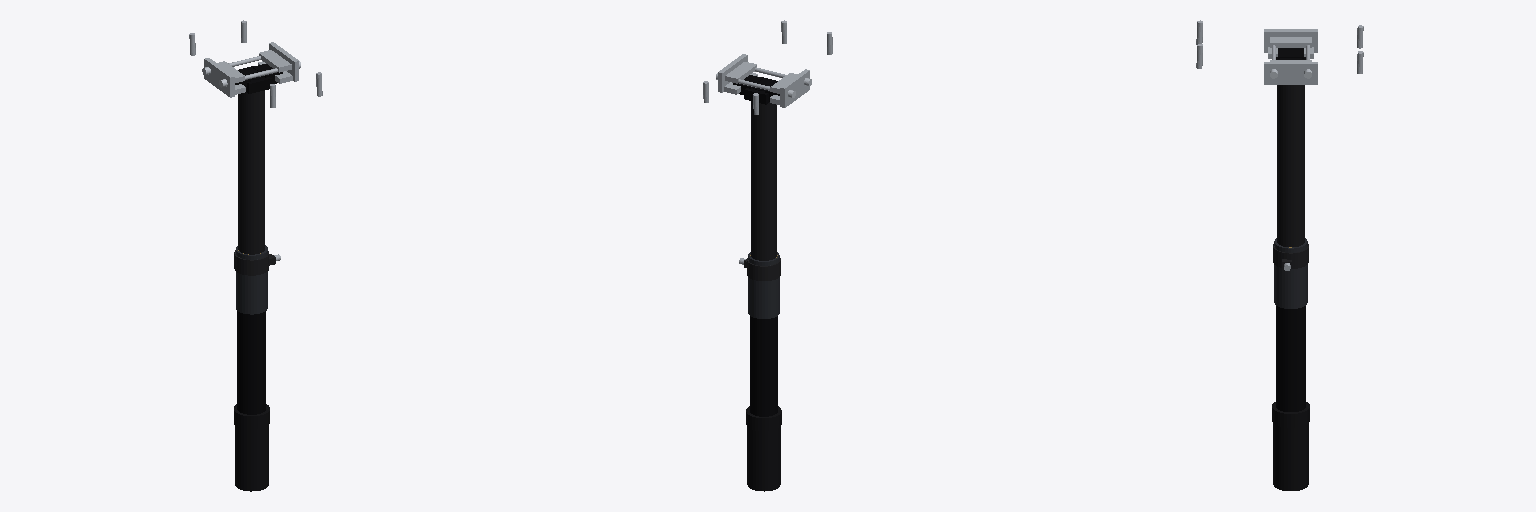
robot.urdf — bicycle_dropper_seatpost:
<robot name="bicycle_dropper_seatpost">
  <material name="frame_black">
    <color rgba="0.11 0.11 0.12 1" />
    </material>
  <material name="anodized_black">
    <color rgba="0.08 0.08 0.09 1" />
    </material>
  <material name="satin_black">
    <color rgba="0.16 0.16 0.17 1" />
    </material>
  <material name="dark_graphite">
    <color rgba="0.2 0.21 0.23 1" />
    </material>
  <material name="black_chrome">
    <color rgba="0.14 0.14 0.15 1" />
    </material>
  <material name="rubber_black">
    <color rgba="0.08 0.08 0.08 1" />
    </material>
  <material name="brushed_steel">
    <color rgba="0.68 0.7 0.73 1" />
    </material>
  <material name="dull_aluminum">
    <color rgba="0.74 0.76 0.79 1" />
    </material>
  <material name="bronze">
    <color rgba="0.62 0.52 0.31 1" />
    </material>
  <link name="seat_tube_stub">
    <inertial>
      <origin xyz="0 0 -0.045" rpy="0 0 0" />
      <mass value="0.35" />
      <inertia ixx="0.000270553" ixy="0" ixz="0" iyy="0.000270553" iyz="0" izz="6.8607e-05" />
      </inertial>
    <visual>
      <origin xyz="0 0 -0.045" rpy="0 0 0" />
      <geometry>
        <cylinder radius="0.0185" length="0.09" />
        </geometry>
      <material name="frame_black">
        <color rgba="0.11 0.11 0.12 1" />
        </material>
      </visual>
    <visual>
      <origin xyz="0 0 -0.008" rpy="0 0 0" />
      <geometry>
        <cylinder radius="0.0198" length="0.016" />
        </geometry>
      <material name="frame_black">
        <color rgba="0.11 0.11 0.12 1" />
        </material>
      </visual>
    <collision name="seat_tube_stub__visual_1">
      <origin xyz="0 0 -0.045" rpy="0 0 0" />
      <geometry>
        <cylinder radius="0.0185" length="0.09" />
        </geometry>
      </collision>
    <collision name="seat_tube_stub__visual_2">
      <origin xyz="0 0 -0.008" rpy="0 0 0" />
      <geometry>
        <cylinder radius="0.0198" length="0.016" />
        </geometry>
      </collision>
    </link>
  <link name="outer_body">
    <inertial>
      <origin xyz="0 0 0.0625" rpy="0 0 0" />
      <mass value="0.55" />
      <inertia ixx="0.00302194" ixy="0" ixz="0" iyy="0.00302194" iyz="0" izz="8.3259e-05" />
      </inertial>
    <visual>
      <origin xyz="0 0 0.0275" rpy="0 0 0" />
      <geometry>
        <cylinder radius="0.0158" length="0.185" />
        </geometry>
      <material name="anodized_black">
        <color rgba="0.08 0.08 0.09 1" />
        </material>
      </visual>
    <visual>
      <origin xyz="0 0 0.155" rpy="0 0 0" />
      <geometry>
        <cylinder radius="0.0174" length="0.07" />
        </geometry>
      <material name="dark_graphite">
        <color rgba="0.2 0.21 0.23 1" />
        </material>
      </visual>
    <visual>
      <origin xyz="0 0 -0.055" rpy="0 0 0" />
      <geometry>
        <cylinder radius="0.0168" length="0.02" />
        </geometry>
      <material name="anodized_black">
        <color rgba="0.08 0.08 0.09 1" />
        </material>
      </visual>
    <collision name="outer_body__visual_1">
      <origin xyz="0 0 0.0275" rpy="0 0 0" />
      <geometry>
        <cylinder radius="0.0158" length="0.185" />
        </geometry>
      </collision>
    <collision name="outer_body__visual_2">
      <origin xyz="0 0 0.155" rpy="0 0 0" />
      <geometry>
        <cylinder radius="0.0174" length="0.07" />
        </geometry>
      </collision>
    <collision name="outer_body__visual_3">
      <origin xyz="0 0 -0.055" rpy="0 0 0" />
      <geometry>
        <cylinder radius="0.0168" length="0.02" />
        </geometry>
      </collision>
    </link>
  <link name="clamp_collar">
    <inertial>
      <mass value="0.08" />
      <inertia ixx="9.38e-06" ixy="0" ixz="0" iyy="9.38e-06" iyz="0" izz="1.444e-05" />
      </inertial>
    <visual>
      <geometry>
        <cylinder radius="0.019" length="0.018" />
        </geometry>
      <material name="satin_black">
        <color rgba="0.16 0.16 0.17 1" />
        </material>
      </visual>
    <visual>
      <origin xyz="0 0 0.0065" rpy="0 0 0" />
      <geometry>
        <cylinder radius="0.0178" length="0.005" />
        </geometry>
      <material name="dark_graphite">
        <color rgba="0.2 0.21 0.23 1" />
        </material>
      </visual>
    <visual>
      <origin xyz="0.0185 -0.004 -0.002" rpy="0 0 0" />
      <geometry>
        <box size="0.013 0.011 0.008" />
        </geometry>
      <material name="satin_black">
        <color rgba="0.16 0.16 0.17 1" />
        </material>
      </visual>
    <visual>
      <origin xyz="0.025 -0.004 -0.002" rpy="0 1.5708 0" />
      <geometry>
        <cylinder radius="0.0035" length="0.014" />
        </geometry>
      <material name="brushed_steel">
        <color rgba="0.68 0.7 0.73 1" />
        </material>
      </visual>
    <collision name="clamp_collar__visual_1">
      <geometry>
        <cylinder radius="0.019" length="0.018" />
        </geometry>
      </collision>
    <collision name="clamp_collar__visual_2">
      <origin xyz="0 0 0.0065" rpy="0 0 0" />
      <geometry>
        <cylinder radius="0.0178" length="0.005" />
        </geometry>
      </collision>
    <collision name="clamp_collar__visual_3">
      <origin xyz="0.0185 -0.004 -0.002" rpy="0 0 0" />
      <geometry>
        <box size="0.013 0.011 0.008" />
        </geometry>
      </collision>
    <collision name="clamp_collar__visual_4">
      <origin xyz="0.025 -0.004 -0.002" rpy="0 1.5708 0" />
      <geometry>
        <cylinder radius="0.0035" length="0.014" />
        </geometry>
      </collision>
    </link>
  <link name="stanchion">
    <inertial>
      <origin xyz="0 0 0.09" rpy="0 0 0" />
      <mass value="0.35" />
      <inertia ixx="0.00169865" ixy="0" ixz="0" iyy="0.00169865" iyz="0" izz="3.7303e-05" />
      </inertial>
    <visual>
      <origin xyz="0 0 0.09" rpy="0 0 0" />
      <geometry>
        <cylinder radius="0.0146" length="0.24" />
        </geometry>
      <material name="black_chrome">
        <color rgba="0.14 0.14 0.15 1" />
        </material>
      </visual>
    <visual>
      <origin xyz="0 0 0.003" rpy="0 0 0" />
      <geometry>
        <cylinder radius="0.0151" length="0.006" />
        </geometry>
      <material name="bronze">
        <color rgba="0.62 0.52 0.31 1" />
        </material>
      </visual>
    <visual>
      <origin xyz="0 0 0.206" rpy="0 0 0" />
      <geometry>
        <cylinder radius="0.0138" length="0.016" />
        </geometry>
      <material name="anodized_black">
        <color rgba="0.08 0.08 0.09 1" />
        </material>
      </visual>
    <collision name="stanchion__visual_1">
      <origin xyz="0 0 0.09" rpy="0 0 0" />
      <geometry>
        <cylinder radius="0.0146" length="0.24" />
        </geometry>
      </collision>
    <collision name="stanchion__visual_2">
      <origin xyz="0 0 0.003" rpy="0 0 0" />
      <geometry>
        <cylinder radius="0.0151" length="0.006" />
        </geometry>
      </collision>
    <collision name="stanchion__visual_3">
      <origin xyz="0 0 0.206" rpy="0 0 0" />
      <geometry>
        <cylinder radius="0.0138" length="0.016" />
        </geometry>
      </collision>
    </link>
  <link name="saddle_clamp">
    <inertial>
      <origin xyz="0 0 0.014" rpy="0 0 0" />
      <mass value="0.14" />
      <inertia ixx="5.62917e-05" ixy="0" ixz="0" iyy="0.000130958" iyz="0" izz="0.000158667" />
      </inertial>
    <visual>
      <origin xyz="0 0 -0.001" rpy="0 0 0" />
      <geometry>
        <cylinder radius="0.011" length="0.01" />
        </geometry>
      <material name="anodized_black">
        <color rgba="0.08 0.08 0.09 1" />
        </material>
      </visual>
    <visual>
      <origin xyz="0 0 0.002" rpy="0 0 0" />
      <geometry>
        <box size="0.028 0.038 0.012" />
        </geometry>
      <material name="anodized_black">
        <color rgba="0.08 0.08 0.09 1" />
        </material>
      </visual>
    <visual>
      <origin xyz="-0.02 0 0.004" rpy="0 0 0" />
      <geometry>
        <box size="0.022 0.028 0.012" />
        </geometry>
      <material name="anodized_black">
        <color rgba="0.08 0.08 0.09 1" />
        </material>
      </visual>
    <visual>
      <origin xyz="-0.032 0 0.005" rpy="0 0 0" />
      <geometry>
        <box size="0.022 0.048 0.006" />
        </geometry>
      <material name="brushed_steel">
        <color rgba="0.68 0.7 0.73 1" />
        </material>
      </visual>
    <visual>
      <origin xyz="-0.04 0 0.014" rpy="0 0 0" />
      <geometry>
        <box size="0.006 0.056 0.024" />
        </geometry>
      <material name="brushed_steel">
        <color rgba="0.68 0.7 0.73 1" />
        </material>
      </visual>
    <visual>
      <origin xyz="-0.032 0 0.0175" rpy="0 0 0" />
      <geometry>
        <box size="0.022 0.044 0.006" />
        </geometry>
      <material name="brushed_steel">
        <color rgba="0.68 0.7 0.73 1" />
        </material>
      </visual>
    <visual>
      <origin xyz="0.02 0 0.004" rpy="0 0 0" />
      <geometry>
        <box size="0.022 0.028 0.012" />
        </geometry>
      <material name="anodized_black">
        <color rgba="0.08 0.08 0.09 1" />
        </material>
      </visual>
    <visual>
      <origin xyz="0.032 0 0.005" rpy="0 0 0" />
      <geometry>
        <box size="0.022 0.048 0.006" />
        </geometry>
      <material name="brushed_steel">
        <color rgba="0.68 0.7 0.73 1" />
        </material>
      </visual>
    <visual>
      <origin xyz="0.04 0 0.014" rpy="0 0 0" />
      <geometry>
        <box size="0.006 0.056 0.024" />
        </geometry>
      <material name="brushed_steel">
        <color rgba="0.68 0.7 0.73 1" />
        </material>
      </visual>
    <visual>
      <origin xyz="0.032 0 0.0175" rpy="0 0 0" />
      <geometry>
        <box size="0.022 0.044 0.006" />
        </geometry>
      <material name="brushed_steel">
        <color rgba="0.68 0.7 0.73 1" />
        </material>
      </visual>
    <visual>
      <origin xyz="0 -0.018 0.016" rpy="0 1.5708 0" />
      <geometry>
        <cylinder radius="0.0024" length="0.086" />
        </geometry>
      <material name="brushed_steel">
        <color rgba="0.68 0.7 0.73 1" />
        </material>
      </visual>
    <visual>
      <origin xyz="-0.046 -0.018 0.016" rpy="0 1.5708 0" />
      <geometry>
        <cylinder radius="0.0042" length="0.006" />
        </geometry>
      <material name="dull_aluminum">
        <color rgba="0.74 0.76 0.79 1" />
        </material>
      </visual>
    <visual>
      <origin xyz="0.046 -0.018 0.016" rpy="0 1.5708 0" />
      <geometry>
        <cylinder radius="0.0042" length="0.006" />
        </geometry>
      <material name="dull_aluminum">
        <color rgba="0.74 0.76 0.79 1" />
        </material>
      </visual>
    <visual>
      <origin xyz="0 0.018 0.016" rpy="0 1.5708 0" />
      <geometry>
        <cylinder radius="0.0024" length="0.086" />
        </geometry>
      <material name="brushed_steel">
        <color rgba="0.68 0.7 0.73 1" />
        </material>
      </visual>
    <visual>
      <origin xyz="-0.046 0.018 0.016" rpy="0 1.5708 0" />
      <geometry>
        <cylinder radius="0.0042" length="0.006" />
        </geometry>
      <material name="dull_aluminum">
        <color rgba="0.74 0.76 0.79 1" />
        </material>
      </visual>
    <visual>
      <origin xyz="0.046 0.018 0.016" rpy="0 1.5708 0" />
      <geometry>
        <cylinder radius="0.0042" length="0.006" />
        </geometry>
      <material name="dull_aluminum">
        <color rgba="0.74 0.76 0.79 1" />
        </material>
      </visual>
    <collision name="saddle_clamp__visual_1">
      <origin xyz="0 0 -0.001" rpy="0 0 0" />
      <geometry>
        <cylinder radius="0.011" length="0.01" />
        </geometry>
      </collision>
    <collision name="saddle_clamp__visual_2">
      <origin xyz="0 0 0.002" rpy="0 0 0" />
      <geometry>
        <box size="0.028 0.038 0.012" />
        </geometry>
      </collision>
    <collision name="saddle_clamp__visual_3">
      <origin xyz="-0.02 0 0.004" rpy="0 0 0" />
      <geometry>
        <box size="0.022 0.028 0.012" />
        </geometry>
      </collision>
    <collision name="saddle_clamp__visual_4">
      <origin xyz="-0.032 0 0.005" rpy="0 0 0" />
      <geometry>
        <box size="0.022 0.048 0.006" />
        </geometry>
      </collision>
    <collision name="saddle_clamp__visual_5">
      <origin xyz="-0.04 0 0.014" rpy="0 0 0" />
      <geometry>
        <box size="0.006 0.056 0.024" />
        </geometry>
      </collision>
    <collision name="saddle_clamp__visual_6">
      <origin xyz="-0.032 0 0.0175" rpy="0 0 0" />
      <geometry>
        <box size="0.022 0.044 0.006" />
        </geometry>
      </collision>
    <collision name="saddle_clamp__visual_7">
      <origin xyz="0.02 0 0.004" rpy="0 0 0" />
      <geometry>
        <box size="0.022 0.028 0.012" />
        </geometry>
      </collision>
    <collision name="saddle_clamp__visual_8">
      <origin xyz="0.032 0 0.005" rpy="0 0 0" />
      <geometry>
        <box size="0.022 0.048 0.006" />
        </geometry>
      </collision>
    <collision name="saddle_clamp__visual_9">
      <origin xyz="0.04 0 0.014" rpy="0 0 0" />
      <geometry>
        <box size="0.006 0.056 0.024" />
        </geometry>
      </collision>
    <collision name="saddle_clamp__visual_10">
      <origin xyz="0.032 0 0.0175" rpy="0 0 0" />
      <geometry>
        <box size="0.022 0.044 0.006" />
        </geometry>
      </collision>
    <collision name="saddle_clamp__visual_11">
      <origin xyz="0 -0.018 0.016" rpy="0 1.5708 0" />
      <geometry>
        <cylinder radius="0.0024" length="0.086" />
        </geometry>
      </collision>
    <collision name="saddle_clamp__visual_12">
      <origin xyz="-0.046 -0.018 0.016" rpy="0 1.5708 0" />
      <geometry>
        <cylinder radius="0.0042" length="0.006" />
        </geometry>
      </collision>
    <collision name="saddle_clamp__visual_13">
      <origin xyz="0.046 -0.018 0.016" rpy="0 1.5708 0" />
      <geometry>
        <cylinder radius="0.0042" length="0.006" />
        </geometry>
      </collision>
    <collision name="saddle_clamp__visual_14">
      <origin xyz="0 0.018 0.016" rpy="0 1.5708 0" />
      <geometry>
        <cylinder radius="0.0024" length="0.086" />
        </geometry>
      </collision>
    <collision name="saddle_clamp__visual_15">
      <origin xyz="-0.046 0.018 0.016" rpy="0 1.5708 0" />
      <geometry>
        <cylinder radius="0.0042" length="0.006" />
        </geometry>
      </collision>
    <collision name="saddle_clamp__visual_16">
      <origin xyz="0.046 0.018 0.016" rpy="0 1.5708 0" />
      <geometry>
        <cylinder radius="0.0042" length="0.006" />
        </geometry>
      </collision>
    </link>
  <link name="saddle">
    <inertial>
      <origin xyz="0 0 0.025" rpy="0 0 0" />
      <mass value="0.26" />
      <inertia ixx="0.00165715" ixy="0" ixz="0" iyy="0.000622787" iyz="0" izz="0.00217161" />
      </inertial>
    <visual>
      <geometry>
        <mesh filename="meshes/dropper_saddle_shell.obj" />
        </geometry>
      <material name="dark_graphite">
        <color rgba="0.2 0.21 0.23 1" />
        </material>
      </visual>
    <visual>
      <geometry>
        <mesh filename="meshes/dropper_saddle_pad.obj" />
        </geometry>
      <material name="rubber_black">
        <color rgba="0.08 0.08 0.08 1" />
        </material>
      </visual>
    <visual>
      <geometry>
        <mesh filename="meshes/dropper_saddle_rails.obj" />
        </geometry>
      <material name="brushed_steel">
        <color rgba="0.68 0.7 0.73 1" />
        </material>
      </visual>
    <visual>
      <origin xyz="-0.032 0.072 0.014" rpy="0 0 0" />
      <geometry>
        <cylinder radius="0.0032" length="0.024" />
        </geometry>
      <material name="brushed_steel">
        <color rgba="0.68 0.7 0.73 1" />
        </material>
      </visual>
    <visual>
      <origin xyz="0.032 0.072 0.014" rpy="0 0 0" />
      <geometry>
        <cylinder radius="0.0032" length="0.024" />
        </geometry>
      <material name="brushed_steel">
        <color rgba="0.68 0.7 0.73 1" />
        </material>
      </visual>
    <visual>
      <origin xyz="-0.029 -0.096 0.014" rpy="0 0 0" />
      <geometry>
        <cylinder radius="0.0032" length="0.026" />
        </geometry>
      <material name="brushed_steel">
        <color rgba="0.68 0.7 0.73 1" />
        </material>
      </visual>
    <visual>
      <origin xyz="0.029 -0.096 0.014" rpy="0 0 0" />
      <geometry>
        <cylinder radius="0.0032" length="0.026" />
        </geometry>
      <material name="brushed_steel">
        <color rgba="0.68 0.7 0.73 1" />
        </material>
      </visual>
    <collision name="saddle__visual_1__hull_001">
      <geometry>
        <mesh filename="meshes/collision/cache/8bf4c35d31847e69dc67ec3e__hull_001.obj" />
        </geometry>
      </collision>
    <collision name="saddle__visual_2__hull_001">
      <geometry>
        <mesh filename="meshes/collision/cache/a1f98e9a8d33934733fd7525__hull_001.obj" />
        </geometry>
      </collision>
    <collision name="saddle__visual_3__hull_001">
      <geometry>
        <mesh filename="meshes/collision/cache/5c213dec1f142c40df24c6d5__hull_001.obj" />
        </geometry>
      </collision>
    <collision name="saddle__visual_3__hull_002">
      <geometry>
        <mesh filename="meshes/collision/cache/5c213dec1f142c40df24c6d5__hull_002.obj" />
        </geometry>
      </collision>
    <collision name="saddle__visual_3__hull_003">
      <geometry>
        <mesh filename="meshes/collision/cache/5c213dec1f142c40df24c6d5__hull_003.obj" />
        </geometry>
      </collision>
    <collision name="saddle__visual_3__hull_004">
      <geometry>
        <mesh filename="meshes/collision/cache/5c213dec1f142c40df24c6d5__hull_004.obj" />
        </geometry>
      </collision>
    <collision name="saddle__visual_4">
      <origin xyz="-0.032 0.072 0.014" rpy="0 0 0" />
      <geometry>
        <cylinder radius="0.0032" length="0.024" />
        </geometry>
      </collision>
    <collision name="saddle__visual_5">
      <origin xyz="0.032 0.072 0.014" rpy="0 0 0" />
      <geometry>
        <cylinder radius="0.0032" length="0.024" />
        </geometry>
      </collision>
    <collision name="saddle__visual_6">
      <origin xyz="-0.029 -0.096 0.014" rpy="0 0 0" />
      <geometry>
        <cylinder radius="0.0032" length="0.026" />
        </geometry>
      </collision>
    <collision name="saddle__visual_7">
      <origin xyz="0.029 -0.096 0.014" rpy="0 0 0" />
      <geometry>
        <cylinder radius="0.0032" length="0.026" />
        </geometry>
      </collision>
    </link>
  <joint name="seat_tube_to_outer_body" type="fixed">
    <parent link="seat_tube_stub" />
    <child link="outer_body" />
    </joint>
  <joint name="outer_body_to_collar" type="fixed">
    <origin xyz="0 0 0.176" rpy="0 0 0" />
    <parent link="outer_body" />
    <child link="clamp_collar" />
    </joint>
  <joint name="dropper_travel" type="prismatic">
    <origin xyz="0 0 0.184" rpy="0 0 0" />
    <parent link="outer_body" />
    <child link="stanchion" />
    <axis xyz="0 0 1" />
    <limit effort="25" velocity="0.35" lower="0" upper="0.17" />
    </joint>
  <joint name="stanchion_to_saddle_clamp" type="fixed">
    <origin xyz="0 0 0.205" rpy="0 0 0" />
    <parent link="stanchion" />
    <child link="saddle_clamp" />
    </joint>
  <joint name="clamp_to_saddle" type="fixed">
    <origin xyz="0 0 0.011" rpy="-0.0349066 0 0" />
    <parent link="saddle_clamp" />
    <child link="saddle" />
    </joint>
  </robot>

--- Facts derived from the render (not from the file) ---
Views: 3 orthographic renders of the robot side by side, from view 1: azimuth 30°, elevation 25°; view 2: azimuth 150°, elevation 25°; view 3: azimuth 270°, elevation 25°.
Model bicycle_dropper_seatpost with 6 links and 5 joints (1 prismatic, 4 fixed), rooted at seat_tube_stub, posed all joints at 0.
Links seen in each view (by area): view 1: stanchion, outer_body, saddle_clamp, seat_tube_stub, clamp_collar, saddle; view 2: outer_body, stanchion, saddle_clamp, seat_tube_stub, clamp_collar; view 3: outer_body, stanchion, seat_tube_stub, saddle_clamp, clamp_collar, saddle.
Boxes of the visible links, bbox=[...] form: stanchion: bbox=[238, 69, 264, 254]; outer_body: bbox=[236, 245, 267, 414]; saddle_clamp: bbox=[202, 42, 300, 97]; seat_tube_stub: bbox=[234, 404, 269, 491]; clamp_collar: bbox=[234, 250, 280, 275]; saddle: bbox=[189, 20, 322, 107]; outer_body: bbox=[748, 252, 779, 416]; stanchion: bbox=[750, 80, 777, 260]; saddle_clamp: bbox=[716, 54, 811, 107]; seat_tube_stub: bbox=[746, 406, 781, 491]; clamp_collar: bbox=[739, 258, 780, 280]; outer_body: bbox=[1274, 238, 1307, 411]; stanchion: bbox=[1277, 58, 1304, 247]; seat_tube_stub: bbox=[1272, 402, 1309, 490]; saddle_clamp: bbox=[1264, 29, 1317, 84]; clamp_collar: bbox=[1273, 244, 1308, 270]; saddle: bbox=[1196, 20, 1363, 73].
Size in the robot's own frame: 0.098 by 0.1752 by 0.5204 metres.
0 mesh visuals loaded from 3 distinct referenced files (none loaded); not drawn: 3 (reference not matched to a file when rendering).
